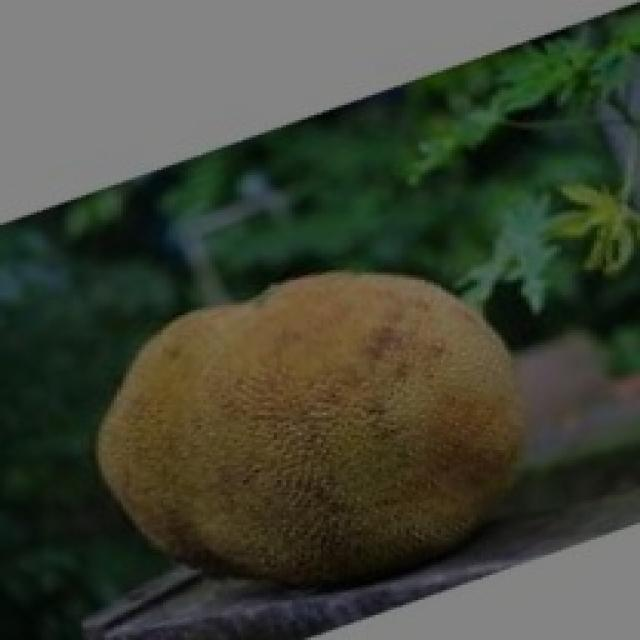Fruit: (215, 217, 591, 635)
